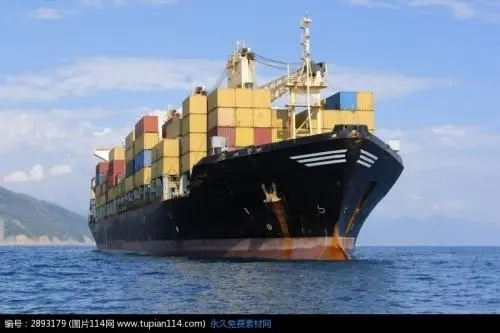Cargoship: (89, 12, 414, 253)
